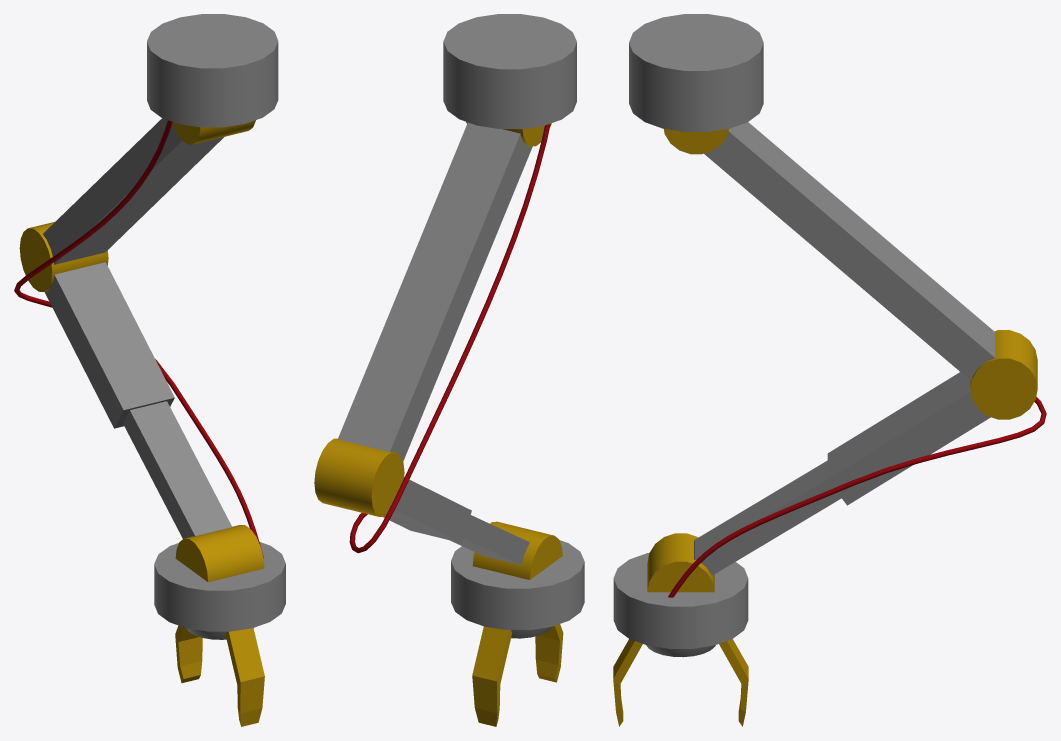
The model's file is ramie.fbx.
3 renders of one model, left to right at view 1: azimuth 30°, elevation 25°; view 2: azimuth 150°, elevation 25°; view 3: azimuth 270°, elevation 25°, orthographic. The views are drawn at different scales.
Parts seen in each view (by area): view 1: ramie_2part, ramie_base, ramie_base2, ramie_1part, ramie_cabble, ramie_pillers2, ramie_pillers1; view 2: ramie_1part, ramie_base, ramie_base2, ramie_2part, ramie_cabble, ramie_pillers1, ramie_pillers2; view 3: ramie_1part, ramie_2part, ramie_base, ramie_base2, ramie_cabble, ramie_pillers1, ramie_pillers2.
Boxes of the visible parts, x1,y1,x2,y2 form: ramie_2part: (19, 222, 231, 538); ramie_base: (147, 14, 278, 127); ramie_base2: (154, 525, 285, 639); ramie_1part: (43, 118, 255, 264); ramie_cabble: (14, 120, 263, 558); ramie_pillers2: (225, 628, 264, 726); ramie_pillers1: (175, 625, 202, 683); ramie_1part: (338, 122, 551, 461); ramie_base: (443, 14, 576, 128); ramie_base2: (451, 521, 584, 638); ramie_2part: (314, 438, 529, 565); ramie_cabble: (349, 123, 550, 553); ramie_pillers1: (472, 626, 512, 726); ramie_pillers2: (535, 624, 563, 682); ramie_1part: (663, 122, 995, 381); ramie_2part: (694, 330, 1037, 575); ramie_base: (629, 14, 763, 131); ramie_base2: (613, 533, 748, 657); ramie_cabble: (668, 397, 1046, 597); ramie_pillers1: (719, 639, 748, 726); ramie_pillers2: (613, 639, 642, 726).
Size of the model in its own units: 322 by 100 by 557.
